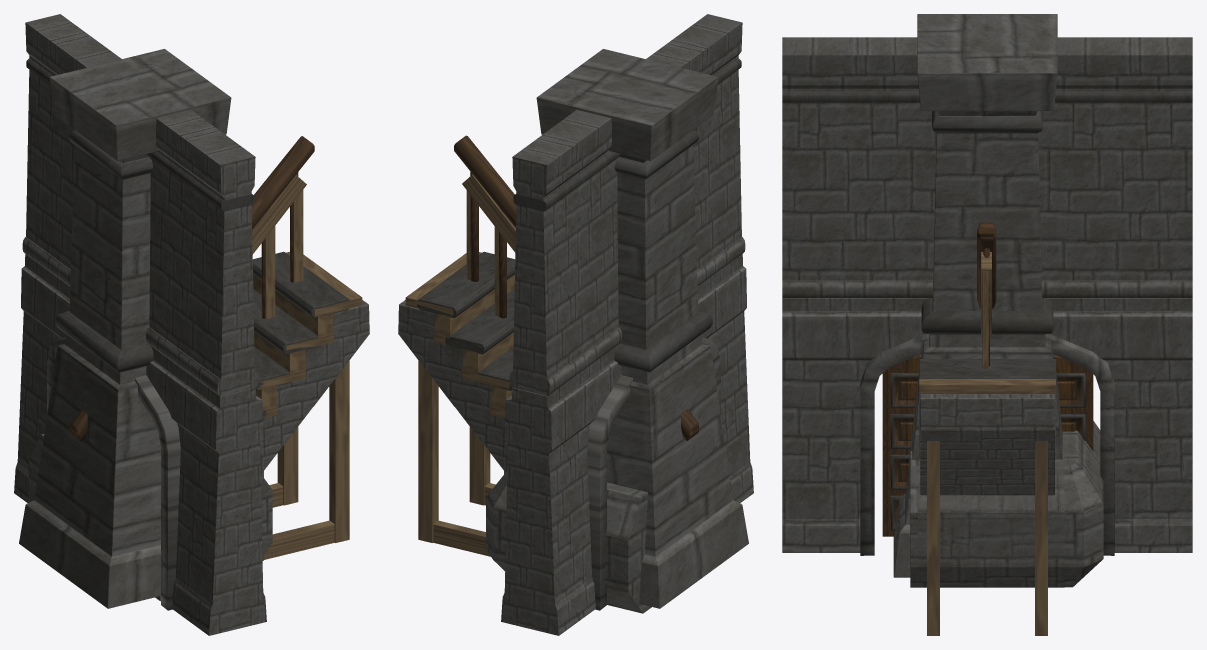
File: walls-keep-1.glb
3 views of the same model, side by side, from view 1: azimuth 30°, elevation 25°; view 2: azimuth 150°, elevation 25°; view 3: azimuth 270°, elevation 25° (orthographic). The views are drawn at different scales.
Visible parts, largest first — view 1: TaperedPillar, TaperedWallTopWide, TaperedWallBottomDoorWide, WoodenStairs, Stairs, WoodenBannister, Bannister, BattlementMajor, BattlementMajorCorner; view 2: TaperedPillar, TaperedWallTopWide, TaperedWallBottomDoorWide, Stairs, WoodenStairs, BattlementMajorCorner, Bannister, WoodenBannister; view 3: TaperedWallTopWide, TaperedWallBottomDoorWide, TaperedPillar, Stairs, BattlementMajorCorner, BattlementMajor, WoodenStairs, DoorRight, DoorLeft, Bannister, WoodenBannister.
Part boxes in pixels (x1,y1,x2,y2): TaperedPillar: (19, 49, 231, 608); TaperedWallTopWide: (22, 14, 258, 395); TaperedWallBottomDoorWide: (14, 254, 266, 635); WoodenStairs: (253, 251, 362, 560); Stairs: (252, 251, 369, 473); WoodenBannister: (252, 175, 306, 319); Bannister: (69, 136, 314, 441); BattlementMajor: (156, 474, 272, 601); BattlementMajorCorner: (29, 434, 44, 502); TaperedPillar: (536, 49, 748, 608); TaperedWallTopWide: (509, 14, 745, 395); TaperedWallBottomDoorWide: (501, 254, 753, 635); Stairs: (398, 251, 515, 472); WoodenStairs: (405, 252, 514, 556); BattlementMajorCorner: (486, 471, 651, 613); Bannister: (454, 135, 699, 440); WoodenBannister: (462, 174, 515, 316); TaperedWallTopWide: (782, 37, 1192, 297); TaperedWallBottomDoorWide: (782, 298, 1192, 555); TaperedPillar: (893, 14, 1062, 577); Stairs: (919, 359, 1055, 495); BattlementMajorCorner: (918, 421, 1103, 587); BattlementMajor: (910, 451, 1064, 587); WoodenStairs: (919, 379, 1055, 635); DoorRight: (882, 355, 918, 536); DoorLeft: (1056, 355, 1093, 451); Bannister: (977, 222, 996, 365); WoodenBannister: (981, 252, 991, 368).
Size of the model in its own units: 2.44 by 4.16 by 3.
7 materials, 5 textured.
